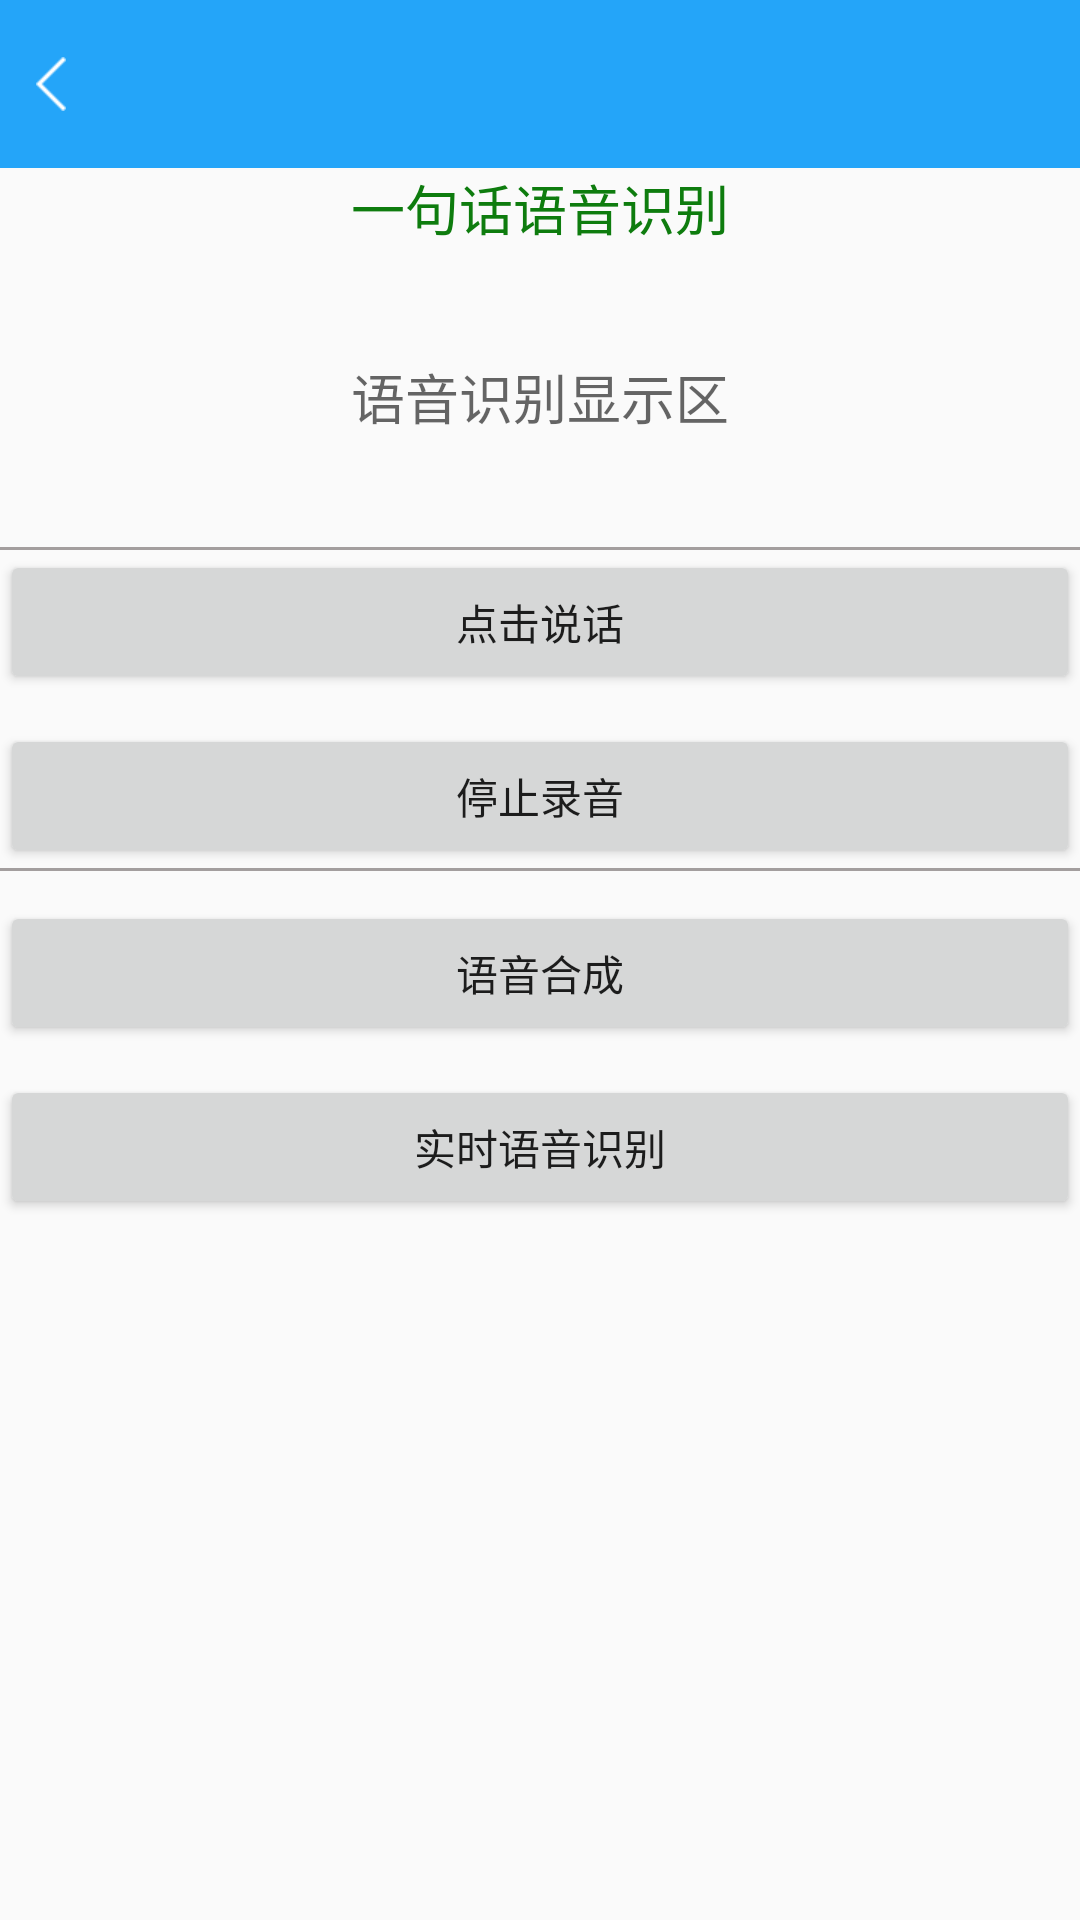

Screen size 1080 × 1920. Icon name, then its center in pixels as (x=x, y=y):
back: (x=51, y=84)
